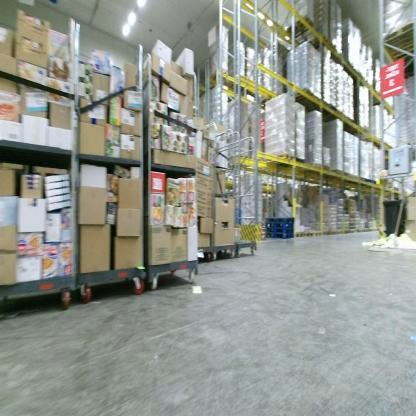pallets: (296, 224, 376, 238)
